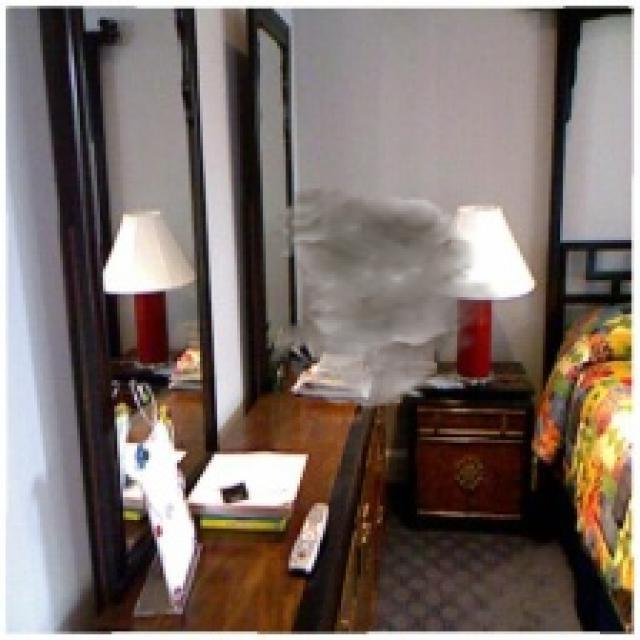Smoke: (268, 185, 506, 408)
